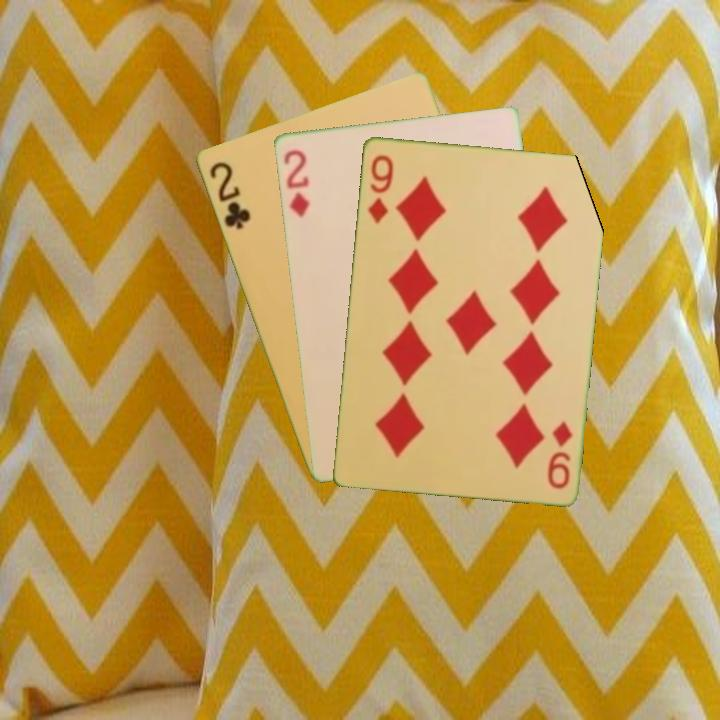2c: (205, 158, 253, 232)
2d: (280, 146, 312, 219)
9d: (364, 150, 396, 227), (543, 416, 575, 491)
